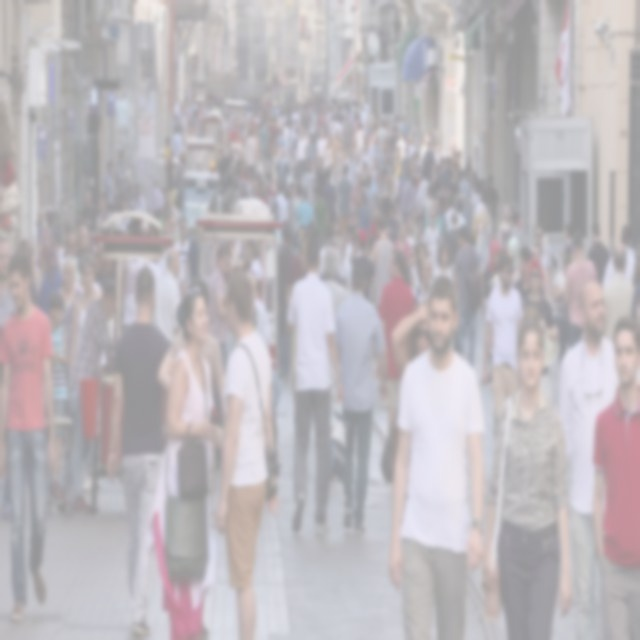pessoa: (384, 272, 488, 639), (478, 304, 574, 639), (268, 90, 406, 290), (212, 266, 284, 638), (104, 262, 174, 638), (152, 285, 226, 639), (558, 276, 622, 639), (0, 246, 59, 629), (284, 232, 344, 540), (405, 112, 498, 308), (157, 274, 227, 528), (330, 257, 389, 539), (590, 313, 640, 639), (50, 280, 118, 516), (207, 90, 268, 216), (481, 250, 524, 420), (379, 245, 417, 436), (520, 256, 560, 404), (208, 242, 234, 469), (320, 246, 348, 434), (18, 206, 64, 318), (46, 289, 70, 503), (68, 251, 107, 381), (452, 221, 486, 368), (561, 230, 599, 350), (600, 241, 638, 340), (62, 188, 112, 258), (56, 253, 84, 372), (276, 225, 297, 383), (164, 89, 209, 159), (151, 245, 182, 344), (552, 244, 575, 376), (370, 210, 394, 314), (600, 223, 636, 290), (348, 227, 377, 306), (228, 233, 264, 296), (497, 198, 522, 288), (0, 234, 19, 329), (512, 242, 544, 298), (586, 220, 612, 288), (530, 222, 552, 300), (270, 366, 286, 469), (482, 238, 502, 318), (183, 218, 204, 294), (284, 289, 296, 407), (173, 216, 191, 292), (532, 242, 552, 306), (153, 200, 179, 244), (174, 149, 188, 227), (114, 182, 148, 214), (253, 296, 270, 350), (146, 178, 166, 218), (0, 470, 14, 522), (630, 242, 639, 322), (155, 146, 169, 194), (559, 221, 576, 260), (166, 149, 176, 211), (116, 150, 130, 194), (104, 160, 115, 216)
